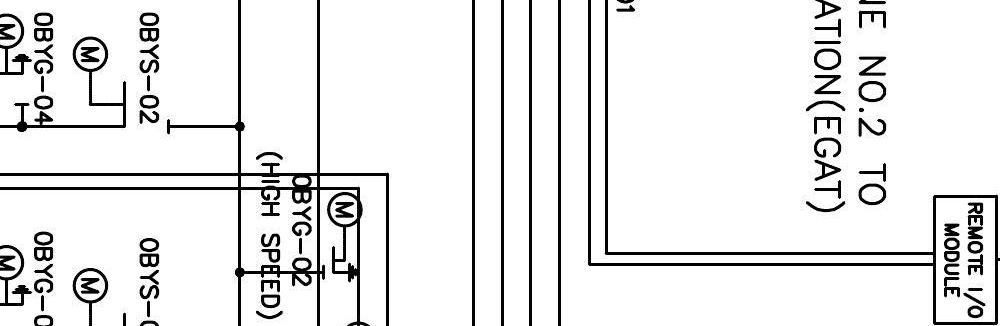115_1way_ds_w_motor: (72, 36, 170, 135)
115_gs_w_motor: (322, 191, 364, 284)
remote_io_module: (933, 194, 998, 325)
